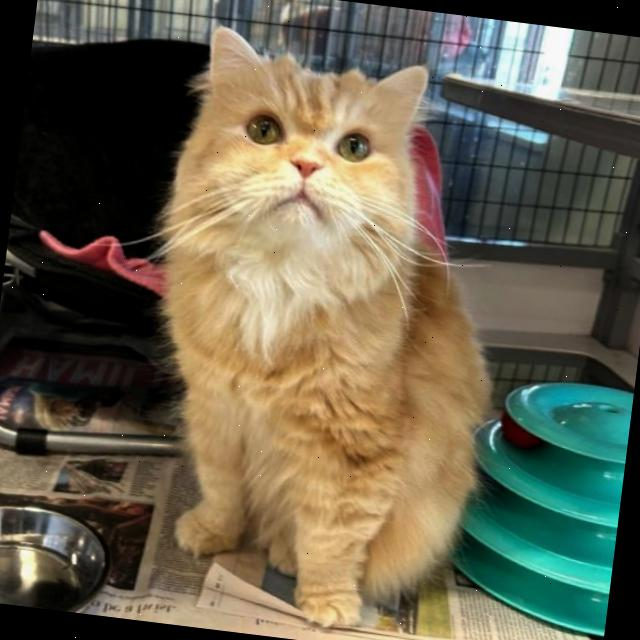persian_cat: (144, 13, 454, 314)
